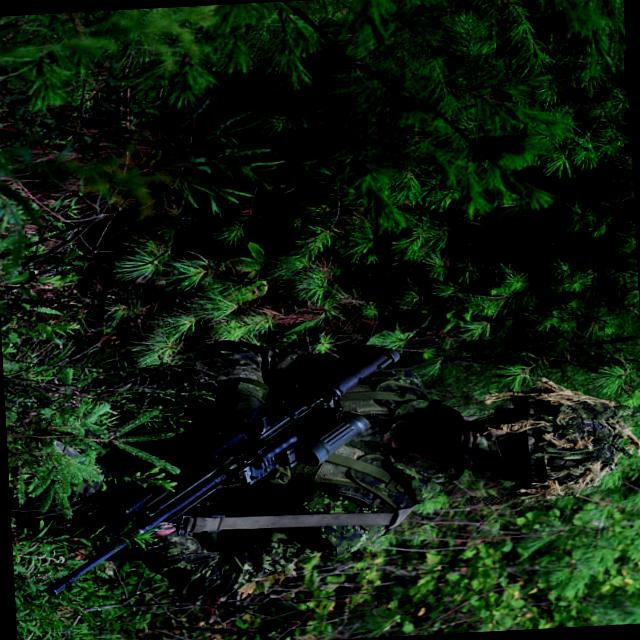long weapon: (28, 315, 446, 630)
